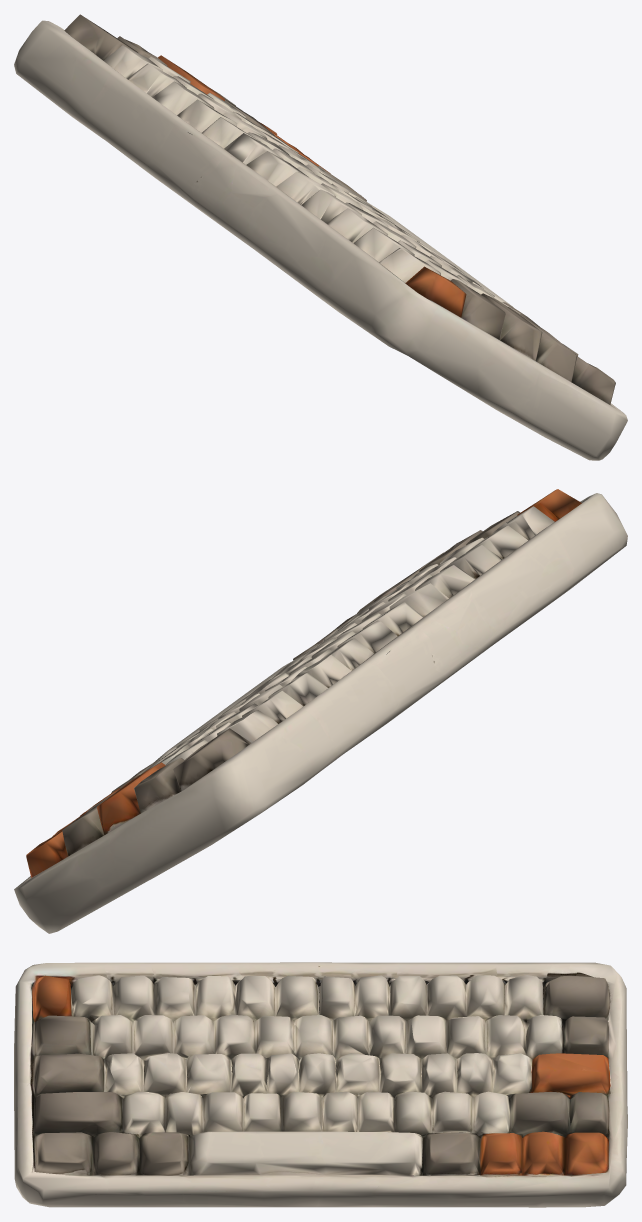
Rendered from teclado.glb.
The picture shows the model from 3 angles, top to bottom: view 1: azimuth 30°, elevation 25°; view 2: azimuth 150°, elevation 25°; view 3: azimuth 270°, elevation 25°; orthographic projection. The views are drawn at different scales.
Visible parts, largest first — view 1: tripo_node_42957e4b-85f4-4a20-bd2b-c6c4502c99f9; view 2: tripo_node_42957e4b-85f4-4a20-bd2b-c6c4502c99f9; view 3: tripo_node_42957e4b-85f4-4a20-bd2b-c6c4502c99f9.
Boxes of the visible parts, bbox=[...] form: tripo_node_42957e4b-85f4-4a20-bd2b-c6c4502c99f9: bbox=[14, 14, 627, 460]; tripo_node_42957e4b-85f4-4a20-bd2b-c6c4502c99f9: bbox=[14, 489, 627, 933]; tripo_node_42957e4b-85f4-4a20-bd2b-c6c4502c99f9: bbox=[14, 962, 627, 1207].
Size of the model in its own units: 0.3691 by 0.3086 by 0.9998.
1 material, 1 textured.
